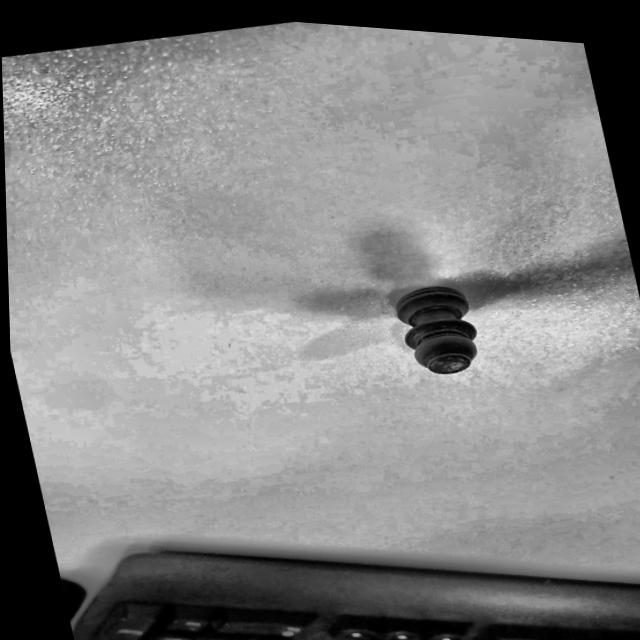black-bishop: (370, 270, 496, 392)
